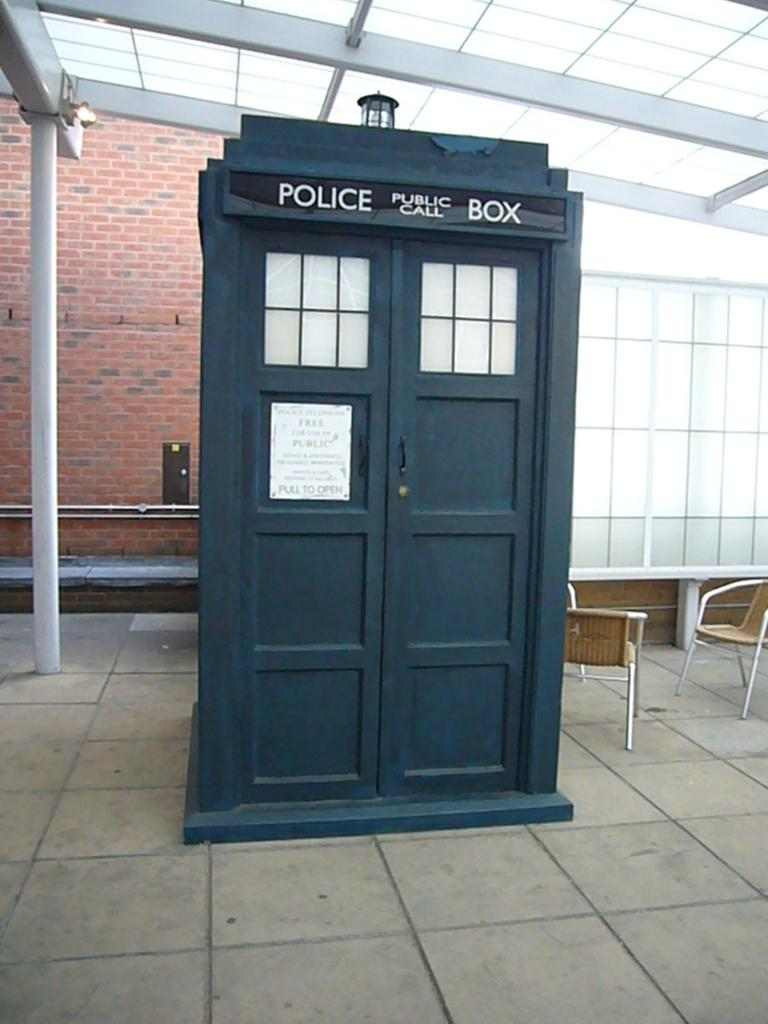handle: (400, 431, 412, 479)
